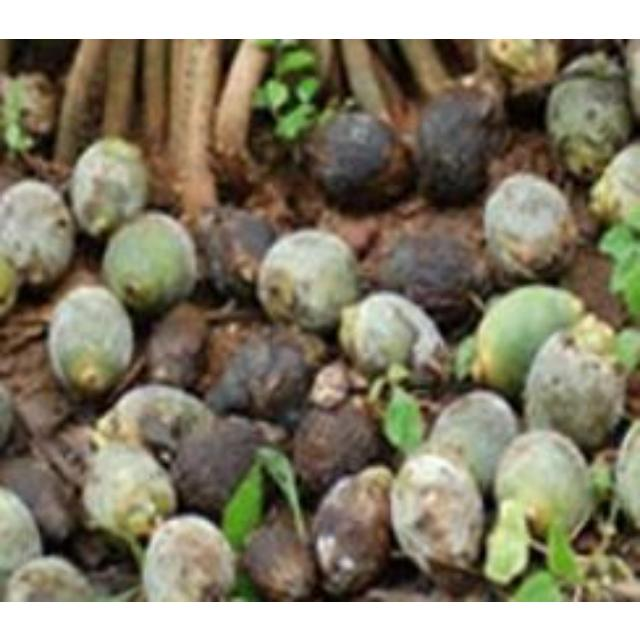damaged: (388, 450, 489, 580), (522, 328, 624, 450), (472, 284, 582, 396), (308, 464, 397, 596), (414, 84, 508, 206), (205, 323, 317, 425), (378, 226, 488, 328), (493, 429, 591, 543), (308, 108, 414, 212), (172, 411, 274, 519), (482, 172, 576, 284), (546, 55, 630, 178), (101, 214, 200, 316), (46, 286, 134, 400), (258, 229, 358, 329), (338, 290, 448, 380), (80, 442, 174, 546), (424, 390, 518, 490), (292, 400, 384, 496), (142, 514, 238, 602), (100, 382, 214, 456), (196, 204, 280, 304), (0, 180, 74, 290), (70, 136, 148, 236), (0, 453, 80, 545), (242, 511, 318, 601), (145, 302, 213, 390), (0, 68, 56, 150), (5, 556, 101, 602), (484, 39, 560, 93)
